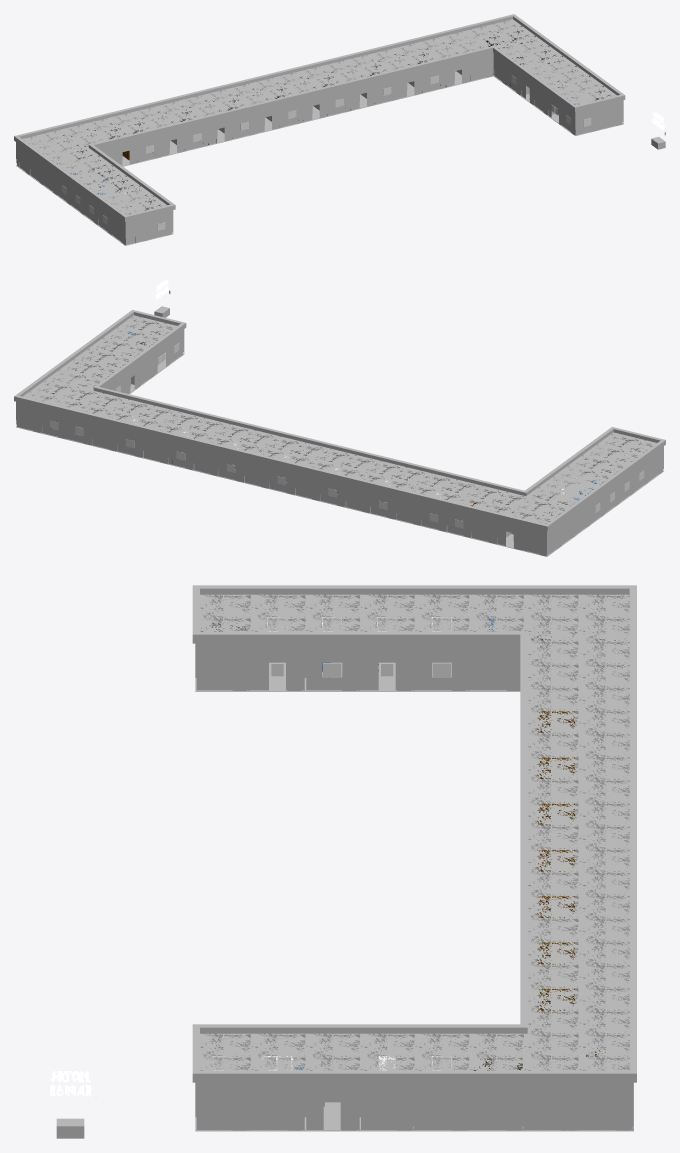
The model's file is MotelElMat.fbx.
The picture shows the model from 3 angles, top to bottom: view 1: azimuth 30°, elevation 25°; view 2: azimuth 150°, elevation 25°; view 3: azimuth 270°, elevation 25°; orthographic projection. The views are drawn at different scales.
Parts seen in each view (by area): view 1: MotelRoof, Motel.070, MotelFloor; view 2: MotelRoof, Motel.070, MotelFloor; view 3: MotelRoof, Motel.070, MotelFloor, Bilboard.
Boxes of the visible parts, left/top/right/bottom form: MotelRoof: left=14, top=14, right=625, bottom=221; Motel.070: left=16, top=22, right=623, bottom=244; MotelFloor: left=16, top=65, right=623, bottom=245; MotelRoof: left=14, top=310, right=665, bottom=531; Motel.070: left=16, top=317, right=663, bottom=556; MotelFloor: left=16, top=352, right=663, bottom=556; MotelRoof: left=192, top=585, right=636, bottom=1082; Motel.070: left=195, top=597, right=633, bottom=1130; MotelFloor: left=195, top=653, right=633, bottom=1131; Bilboard: left=50, top=1071, right=91, bottom=1138.
Size of the model in its own units: 8541 by 558 by 4334.
